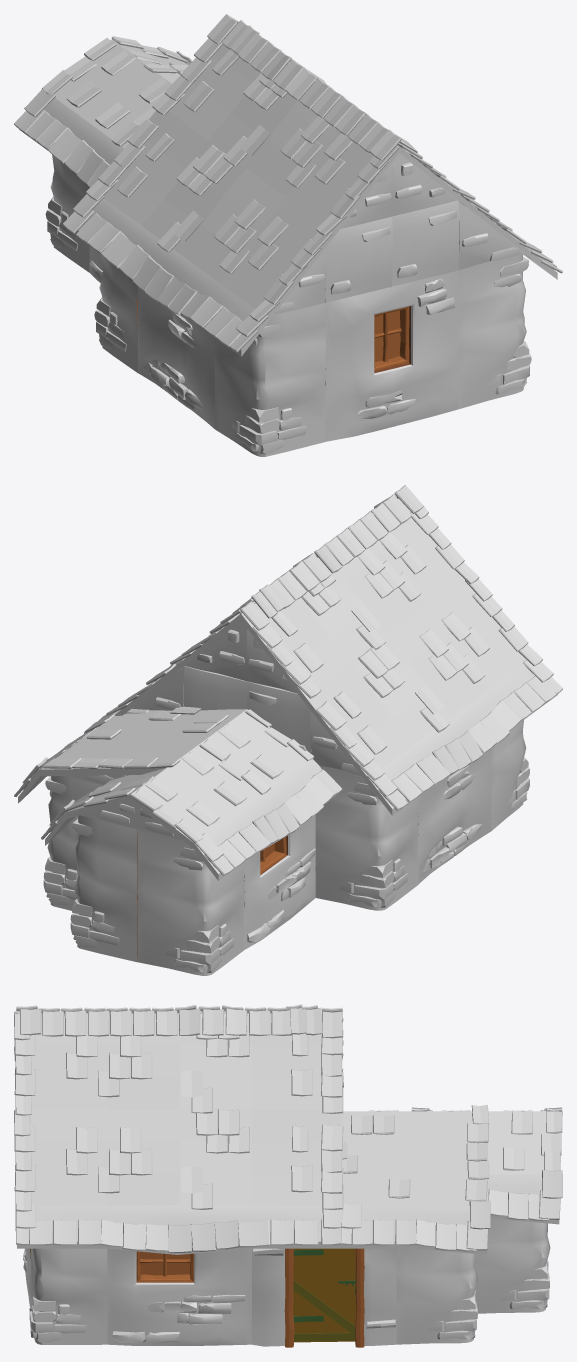
File: Modular_house_1.fbx
3 views of the same model, one above another, from view 1: azimuth 30°, elevation 25°; view 2: azimuth 150°, elevation 25°; view 3: azimuth 270°, elevation 25° (orthographic). The views are drawn at different scales.
Parts seen in each view (by area): view 1: roof.010, roof.011, wall.009, wall.010, Roof_long_strip_low.006, wall.008, roof.012, wall.011, Roof_long_strip_low.008, wall_roof.006, roof.014, wall_roof.007 (+17 smaller); view 2: roof.010, roof.011, wall.015, Roof_long_strip_low.006, wall.012, roof.015, Roof_long_strip_low.008, wall.014, roof.012, wall.011, wall.013, roof.016 (+20 smaller); view 3: roof.008, roof.009, Roof_long_strip_low.005, roof.015, wall.007, roof.012, Roof_long_strip_low.009, wall.006, wall.005, wall.008, Windows_doors.026, wall.014 (+10 smaller).
Part boxes in pixels (bbox=[...]): roof.010: bbox=[86, 111, 332, 323]; roof.011: bbox=[152, 33, 399, 237]; wall.009: bbox=[325, 270, 458, 441]; wall.010: bbox=[214, 303, 325, 456]; Roof_long_strip_low.006: bbox=[62, 194, 268, 356]; wall.008: bbox=[458, 254, 526, 409]; roof.012: bbox=[207, 14, 417, 160]; wall.011: bbox=[138, 286, 214, 428]; Roof_long_strip_low.008: bbox=[14, 89, 124, 187]; wall_roof.006: bbox=[392, 200, 459, 286]; roof.014: bbox=[42, 38, 146, 118]; wall_roof.007: bbox=[325, 217, 392, 302]; roof.010: bbox=[304, 579, 542, 784]; roof.011: bbox=[241, 498, 479, 701]; wall.015: bbox=[138, 829, 244, 975]; Roof_long_strip_low.006: bbox=[367, 660, 562, 815]; wall.012: bbox=[315, 765, 418, 910]; roof.015: bbox=[40, 706, 246, 776]; Roof_long_strip_low.008: bbox=[194, 759, 342, 880]; wall.014: bbox=[74, 815, 137, 962]; roof.012: bbox=[220, 485, 424, 630]; wall.011: bbox=[418, 749, 491, 884]; wall.013: bbox=[244, 815, 315, 949]; roof.016: bbox=[204, 709, 314, 786]; roof.008: bbox=[14, 1109, 343, 1211]; roof.009: bbox=[14, 1013, 343, 1115]; Roof_long_strip_low.005: bbox=[15, 1203, 343, 1254]; roof.015: bbox=[342, 1105, 489, 1205]; wall.007: bbox=[107, 1248, 251, 1345]; roof.012: bbox=[16, 1004, 342, 1038]; Roof_long_strip_low.009: bbox=[341, 1200, 490, 1254]; wall.006: bbox=[396, 1248, 477, 1344]; wall.005: bbox=[252, 1248, 396, 1346]; wall.008: bbox=[28, 1248, 107, 1344]; Windows_doors.026: bbox=[293, 1248, 356, 1342]; wall.014: bbox=[474, 1218, 550, 1313].
Bounding box in the file's own units: 495 × 426 × 759.
